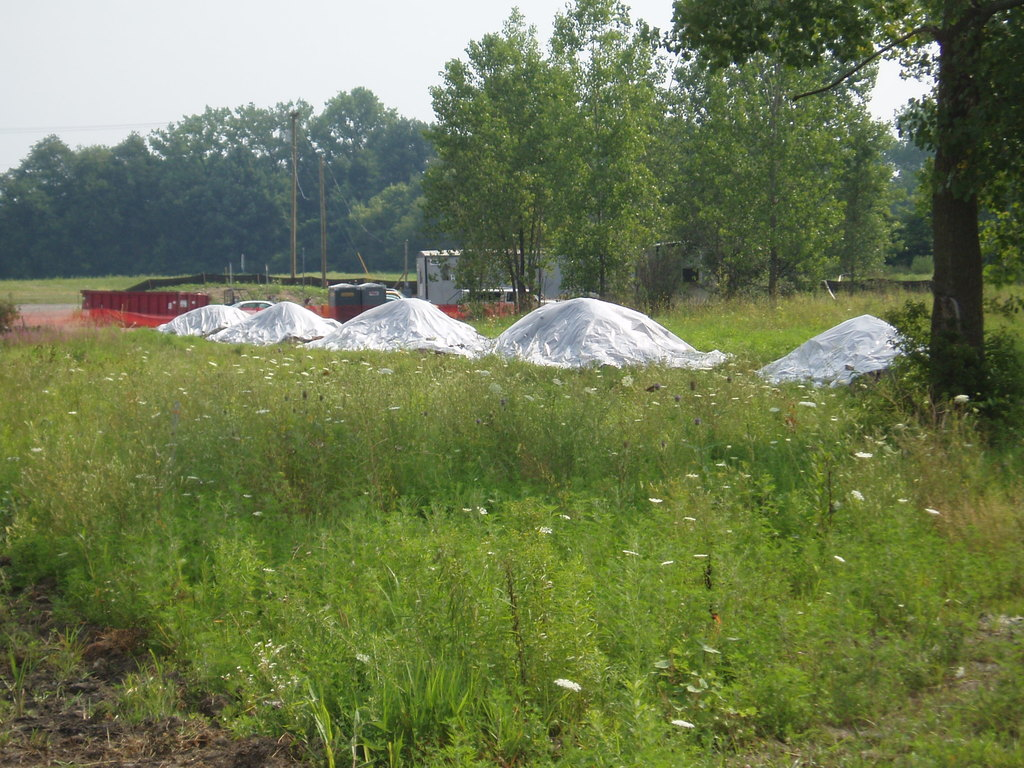Tree: (634, 0, 1023, 408), (408, 11, 588, 313), (536, 0, 688, 298), (695, 14, 858, 288), (876, 108, 1023, 276), (156, 101, 290, 240), (192, 145, 307, 284), (822, 112, 903, 297), (307, 84, 392, 249), (0, 142, 69, 285), (74, 128, 159, 244), (382, 113, 434, 240), (646, 122, 704, 229)
